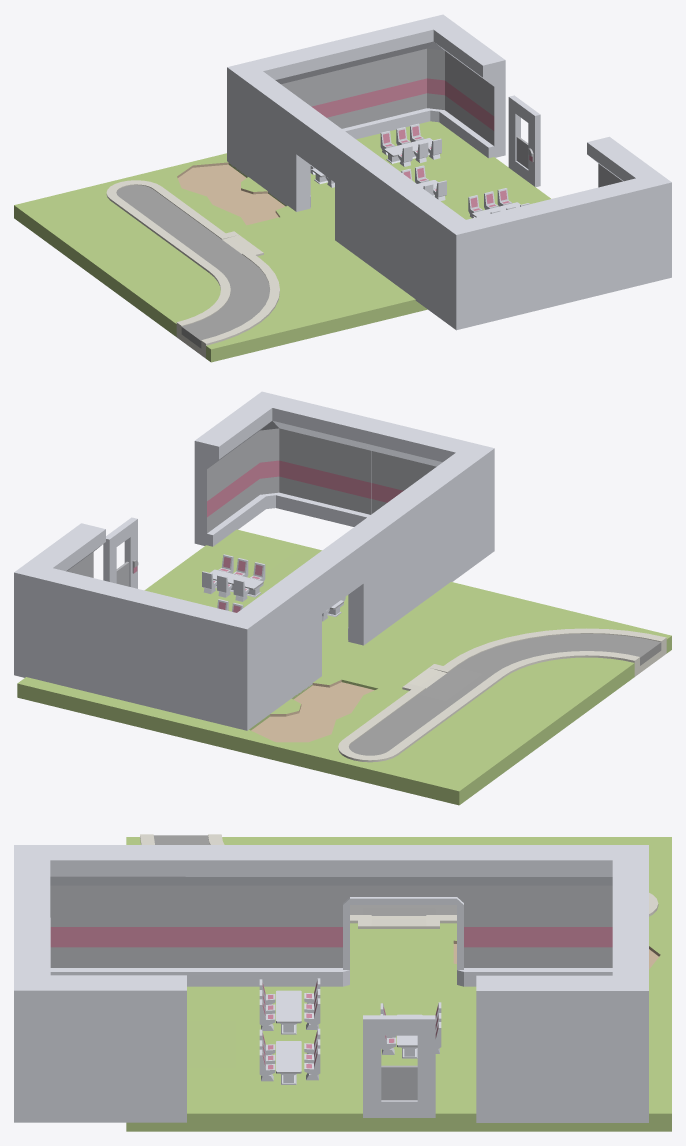
The model's file is level.dae.
The picture shows the model from 3 angles, top to bottom: view 1: azimuth 30°, elevation 25°; view 2: azimuth 150°, elevation 25°; view 3: azimuth 270°, elevation 25°; orthographic projection. The views are drawn at different scales.
Parts seen in each view (by area): view 1: Mesh1_Group1_Model_0002, Mesh1_Group1_Model_002, Mesh1_Group1_Model_003, Mesh1_Group1_Model_0092, Mesh1_Group1_Model_0252, Mesh1_Group1_Model_0102, __04, __05, __03, __24, __32, __43 (+15 smaller); view 2: Mesh1_Group1_Model_0092, Mesh1_Group1_Model_003, Mesh1_Group1_Model_002, Mesh1_Group1_Model_0002, Mesh1_Group1_Model_0252, Mesh1_Group1_Model_0102, __43, __44, __45, __15, __32, __24 (+18 smaller); view 3: Mesh1_Group1_Model_003, Mesh1_Group1_Model_002, Mesh1_Group1_Model_0252, Mesh1_Group1_Model_0092, Mesh1_Group1_Model_0002, Mesh1_Group1_Model_0102, Mesh1_Group1_Model_0292, __1, __23, __22, __0, __2_001 (+22 smaller).
Boxes of the visible parts, <box> form: Mesh1_Group1_Model_0002: <box>394,184,564,330</box>; Mesh1_Group1_Model_002: <box>335,14,505,158</box>; Mesh1_Group1_Model_003: <box>551,136,671,303</box>; Mesh1_Group1_Model_0092: <box>227,41,348,206</box>; Mesh1_Group1_Model_0252: <box>341,145,416,282</box>; Mesh1_Group1_Model_0102: <box>289,107,363,244</box>; __04: <box>171,303,279,362</box>; __05: <box>240,287,347,345</box>; __03: <box>308,270,415,328</box>; __24: <box>92,246,199,304</box>; __32: <box>53,217,160,275</box>; __43: <box>14,188,121,246</box>; Mesh1_Group1_Model_0092: <box>130,574,314,730</box>; Mesh1_Group1_Model_003: <box>194,391,377,546</box>; Mesh1_Group1_Model_002: <box>14,523,144,702</box>; Mesh1_Group1_Model_0002: <box>364,420,494,598</box>; Mesh1_Group1_Model_0252: <box>347,491,427,639</box>; Mesh1_Group1_Model_0102: <box>290,533,371,680</box>; __43: <box>385,742,501,805</box>; __44: <box>312,724,427,787</box>; __45: <box>238,706,353,769</box>; __15: <box>513,647,629,711</box>; __32: <box>428,711,544,773</box>; __24: <box>471,680,586,742</box>; Mesh1_Group1_Model_003: <box>14,917,186,1122</box>; Mesh1_Group1_Model_002: <box>476,918,648,1122</box>; Mesh1_Group1_Model_0252: <box>185,845,331,986</box>; Mesh1_Group1_Model_0092: <box>476,845,648,975</box>; Mesh1_Group1_Model_0002: <box>14,845,186,975</box>; Mesh1_Group1_Model_0102: <box>330,845,476,986</box>; Mesh1_Group1_Model_0292: <box>363,1015,435,1117</box>; __1: <box>235,1067,344,1131</box>; __23: <box>350,929,453,975</box>; __22: <box>344,975,453,1021</box>; __0: <box>126,1067,235,1131</box>; __2_001: <box>344,1067,453,1131</box>.
Size of the model in its own units: 18.5 by 18.08 by 4.5.
